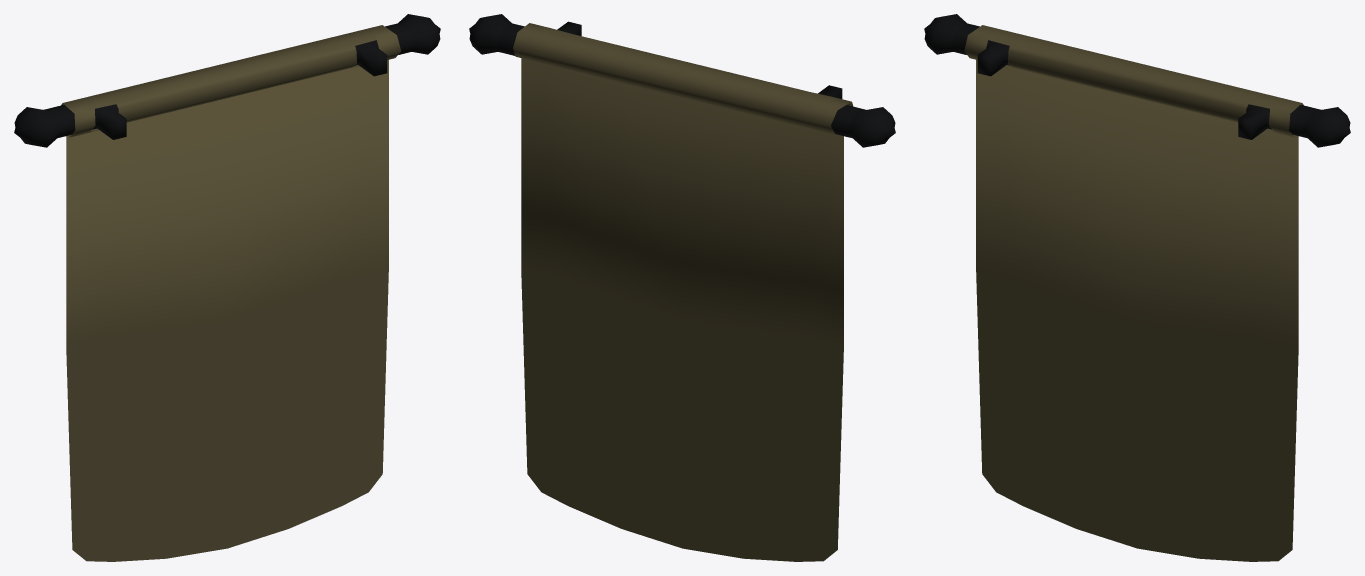
Rendered from Banners 1.fbx.
3 renders of one model, left to right at view 1: azimuth 30°, elevation 25°; view 2: azimuth 150°, elevation 25°; view 3: azimuth 330°, elevation 25°, orthographic.
Visible parts, largest first — view 1: Banner.003, BannerHolder.003; view 2: Banner.003, BannerHolder.003; view 3: Banner.003, BannerHolder.003.
Part boxes in pixels (box(x1,y1,x2,y2)): Banner.003: box(61, 25, 401, 561); BannerHolder.003: box(14, 14, 440, 147); Banner.003: box(513, 23, 853, 561); BannerHolder.003: box(469, 14, 895, 147); Banner.003: box(964, 25, 1303, 561); BannerHolder.003: box(924, 14, 1350, 147).
Bounding box in the file's own units: 620 × 675 × 93.31.
